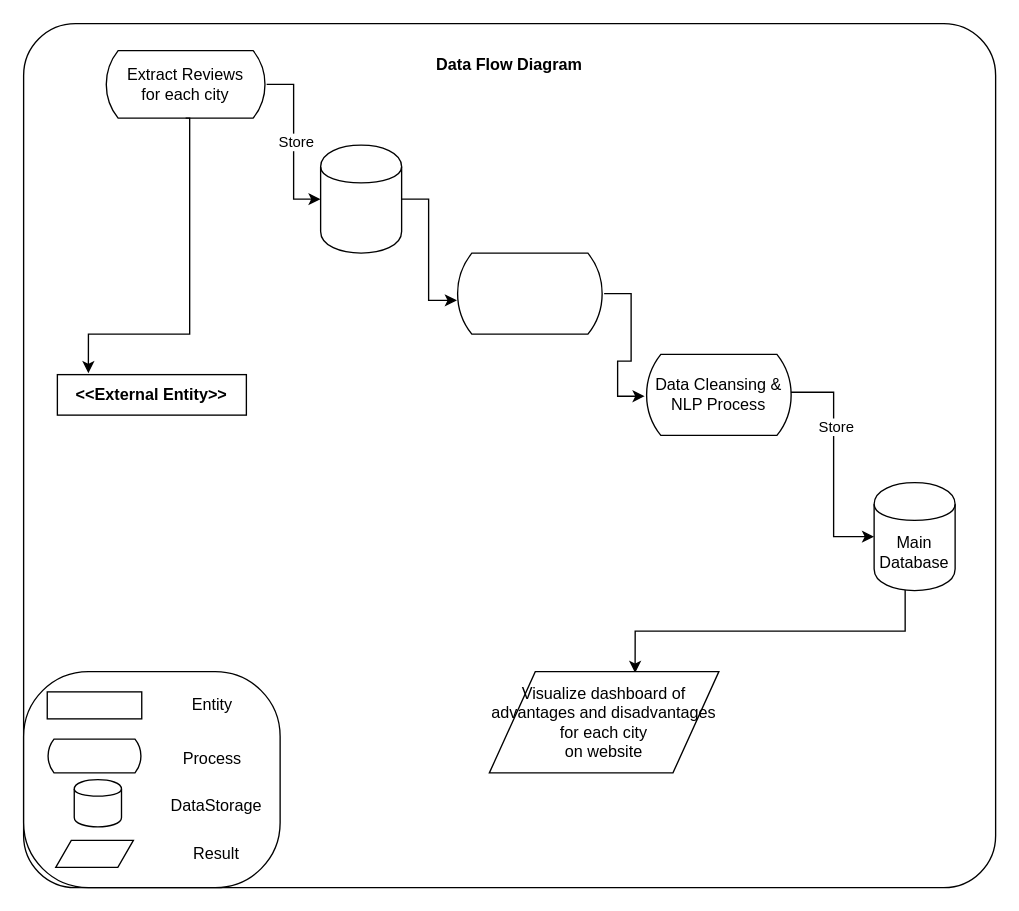
Image size: 1019x911. Some labels were removed from this diagram. Here are the shapes that lost their labels. From the top down, the centre of each, then its label:
point (360, 198): Raw_Data storage
point (529, 293): Data Cleansing
